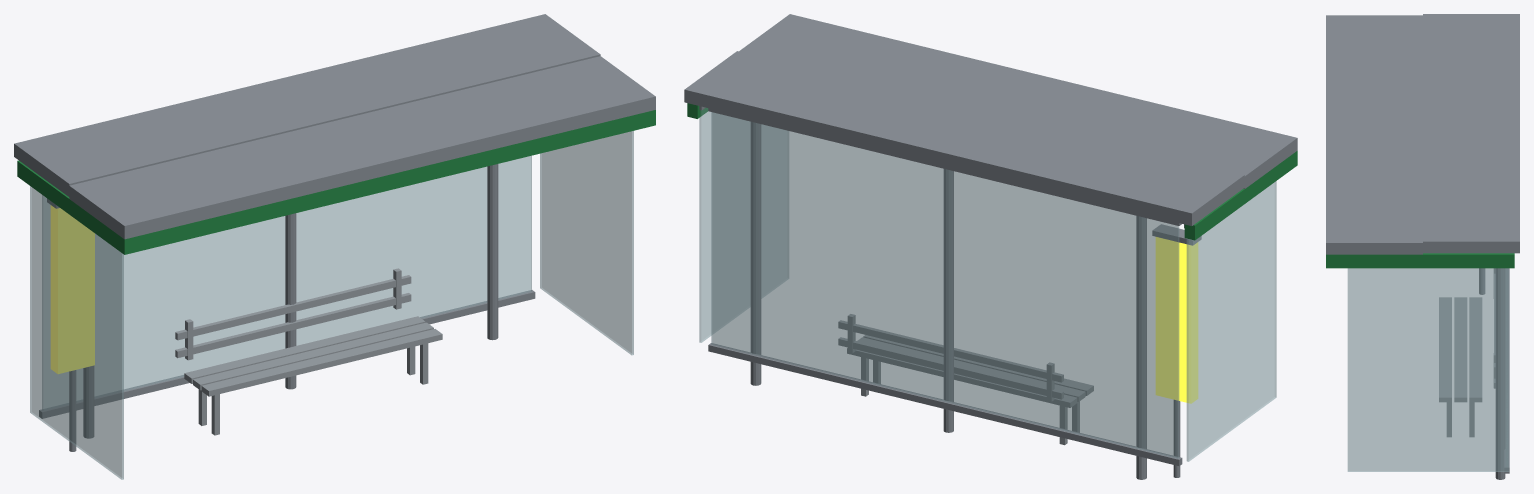
The model's file is bus_stop.glb.
The picture shows the model from 3 angles, left to right: view 1: azimuth 30°, elevation 25°; view 2: azimuth 150°, elevation 25°; view 3: azimuth 270°, elevation 25°; orthographic projection. The views are drawn at different scales.
Parts seen in each view (by area): view 1: BusStop; view 2: BusStop; view 3: BusStop.
Part boxes in pixels (x1,y1,x2,y2): BusStop: [14, 14, 655, 479]; BusStop: [684, 14, 1297, 479]; BusStop: [1326, 14, 1519, 479].
Bounding box in the file's own units: 0.5 × 0.27 × 0.18.
